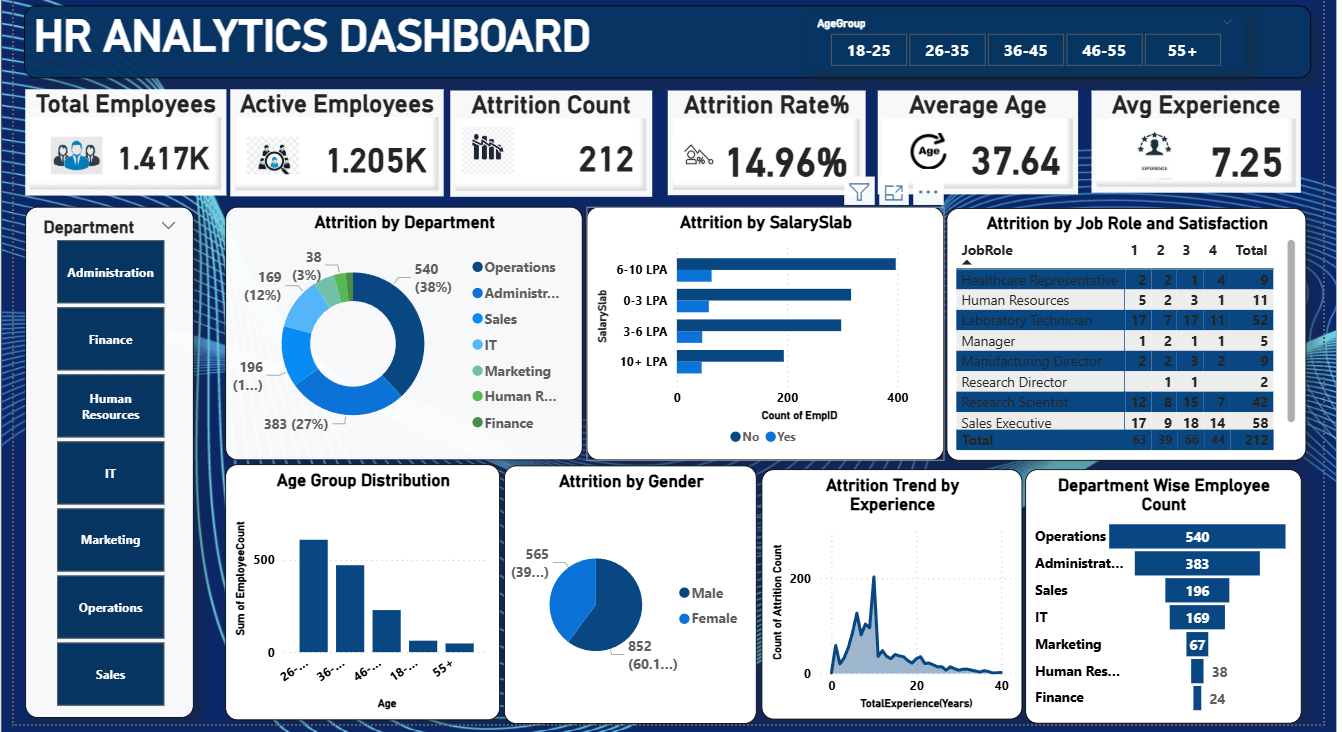

What the dashboard file says about the page in this screenshot:
{"tool":"powerbi","page":{"name":"HR ANALYTICS DASHBOARD","canvas":[1280,720],"ordinal":0},"visuals":[{"type":"textbox","title":"HR ANALYTICS DASHBOARD","box":[10,17,1259,71],"z":0},{"type":"cardVisual","title":"Total Employees","fields":{"Data":["CountNonNull(HR_Analytics-4 (1).EmpID)"]},"box":[11,99,197,104],"z":1000},{"type":"cardVisual","title":"Active Employees","fields":{"Data":["CountNonNull(HR_Analytics-4 (1).EmployeeCount)"]},"box":[212,99.1,209.1,104.5],"z":2000},{"type":"cardVisual","title":"Attrition Count","fields":{"Data":["CountNonNull(HR_Analytics-4 (1).Attrition Count)"]},"box":[426.2,100,197.5,103.8],"z":3000},{"type":"cardVisual","title":"Attrition Rate%","fields":{"Data":["HR_Analytics-4 (1).Attrition Rate"]},"box":[640,100,193.8,102.5],"z":4000},{"type":"cardVisual","title":"Average Age","fields":{"Data":["Avg(HR_Analytics-4 (1).Age)"]},"box":[845,100,196.2,101.2],"z":5000},{"type":"cardVisual","title":"Avg Experience","fields":{"Data":["Avg(HR_Analytics-4 (1).YearsatCompany)"]},"box":[1053.8,100,205,100],"z":6000},{"type":"image","box":[28.1,140.6,66,46.5],"z":7000},{"type":"image","box":[222.6,140.6,62.4,46.5],"z":8000},{"type":"image","box":[451.2,130.8,73.4,56.3],"z":9000},{"type":"image","box":[639.5,127.2,61.1,75.8],"z":10000},{"type":"image","box":[845,137,99,45.2],"z":11000},{"type":"image","box":[1079.8,124.7,72.1,67.3],"z":12000},{"type":"donutChart","title":"Attrition by Department","fields":{"Category":["HR_Analytics-4 (1).Department"],"Y":["CountNonNull(HR_Analytics-4 (1).Attrition Count)"]},"box":[206.7,214,349.7,248.2],"z":13000},{"type":"clusteredBarChart","title":"Attrition by SalarySlab","fields":{"Category":["HR_Analytics-4 (1).SalarySlab"],"Series":["HR_Analytics-4 (1).Attrition"],"Y":["CountNonNull(HR_Analytics-4 (1).EmpID)"]},"box":[560.1,214,349.7,248.2],"z":14000},{"type":"pivotTable","title":"Attrition by Job Role and Satisfaction","fields":{"Columns":["HR_Analytics-4 (1).JobSatisfaction"],"Rows":["HR_Analytics-4 (1).JobRole"],"Values":["HR_Analytics-4 (1).Total Attrition"]},"box":[912.2,215.2,352.2,247],"z":15000},{"type":"columnChart","title":"Age Group Distribution","fields":{"Category":["HR_Analytics-4 (1).AgeGroup"],"Y":["Sum(HR_Analytics-4 (1).EmployeeCount)"]},"box":[206.2,466.2,268.8,250],"z":16000},{"type":"pieChart","title":"Attrition by Gender","fields":{"Category":["HR_Analytics-4 (1).Gender"],"Y":["CountNonNull(HR_Analytics-4 (1).Attrition Count)"]},"box":[478.8,467.5,247.5,252.5],"z":17000},{"type":"areaChart","title":"Attrition Trend by Experience","fields":{"Category":["HR_Analytics-4 (1).TotalExperience(Years)"],"Y":["CountNonNull(HR_Analytics-4 (1).Attrition Count)"]},"box":[731.2,471.2,255,245],"z":18000},{"type":"funnel","title":"Department Wise Employee Count","fields":{"Category":["HR_Analytics-4 (1).Department"],"Y":["CountNonNull(HR_Analytics-4 (1).EmpID)"]},"box":[988.8,471.2,270,248.8],"z":19000},{"type":"slicer","fields":{"Values":["HR_Analytics-4 (1).Department"]},"box":[11,214,165,500],"z":20000},{"type":"slicer","fields":{"Values":["HR_Analytics-4 (1).AgeGroup"]},"box":[773,23,432,58],"z":21000}]}

Visuals, with their boxes in screenshot pixels (x1, y1, x2, y2):
"HR ANALYTICS DASHBOARD" textbox: detection(27, 17, 1287, 88)
"Total Employees" cardVisual: detection(28, 99, 226, 203)
"Active Employees" cardVisual: detection(230, 99, 439, 204)
"Attrition Count" cardVisual: detection(444, 100, 641, 204)
"Attrition Rate%" cardVisual: detection(658, 100, 852, 203)
"Average Age" cardVisual: detection(863, 100, 1059, 201)
"Avg Experience" cardVisual: detection(1072, 100, 1277, 200)
image: detection(46, 141, 112, 187)
image: detection(240, 141, 303, 187)
image: detection(469, 131, 542, 187)
image: detection(657, 127, 718, 203)
image: detection(863, 137, 962, 182)
image: detection(1098, 125, 1170, 192)
"Attrition by Department" donutChart: detection(224, 214, 574, 462)
"Attrition by SalarySlab" clusteredBarChart: detection(578, 214, 928, 462)
"Attrition by Job Role and Satisfaction" pivotTable: detection(930, 215, 1282, 462)
"Age Group Distribution" columnChart: detection(224, 466, 493, 717)
"Attrition by Gender" pieChart: detection(496, 468, 744, 720)
"Attrition Trend by Experience" areaChart: detection(749, 471, 1004, 717)
"Department Wise Employee Count" funnel: detection(1007, 471, 1277, 720)
slicer - HR_Analytics-4 (1).Department: detection(28, 214, 194, 714)
slicer - HR_Analytics-4 (1).AgeGroup: detection(791, 23, 1223, 81)
